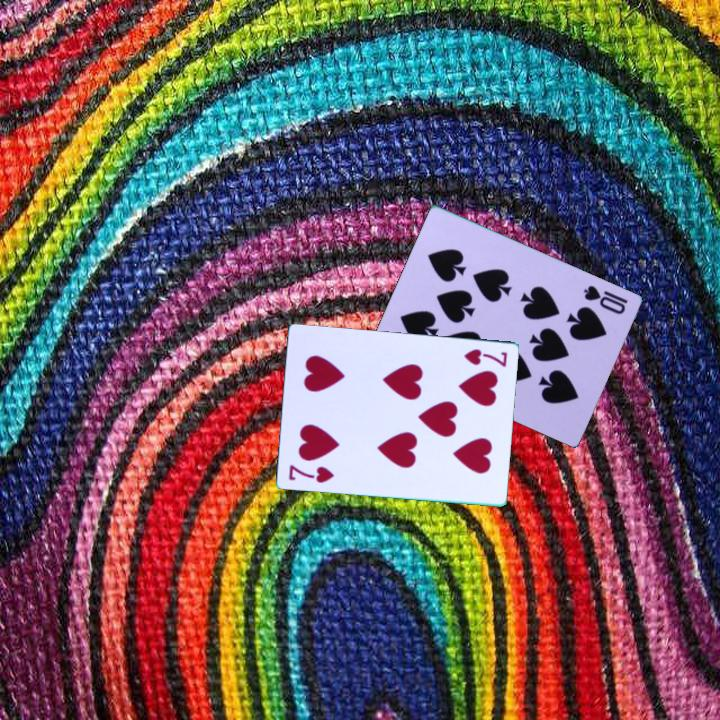10s: (580, 282, 631, 317)
7h: (285, 461, 337, 486), (460, 345, 510, 370)
